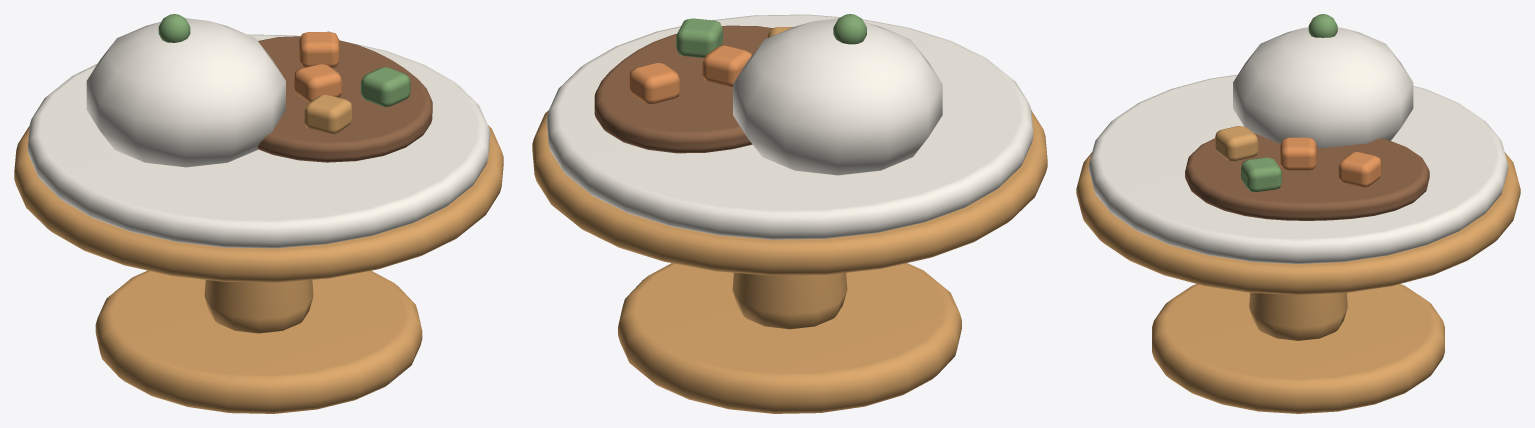
Rendered from dish_rice_meal.glb.
3 renders of one model, left to right at view 1: azimuth 30°, elevation 25°; view 2: azimuth 150°, elevation 25°; view 3: azimuth 270°, elevation 25°, orthographic. The views are drawn at different scales.
Parts seen in each view (by area): view 1: dish_rice_meal_mesh; view 2: dish_rice_meal_mesh; view 3: dish_rice_meal_mesh.
Boxes of the visible parts, box(x1,y1,x2,y2) form: dish_rice_meal_mesh: box(14, 14, 503, 413); dish_rice_meal_mesh: box(532, 14, 1047, 413); dish_rice_meal_mesh: box(1076, 14, 1520, 413).
Bounding box in the file's own units: 0.36 × 0.277 × 0.36.
